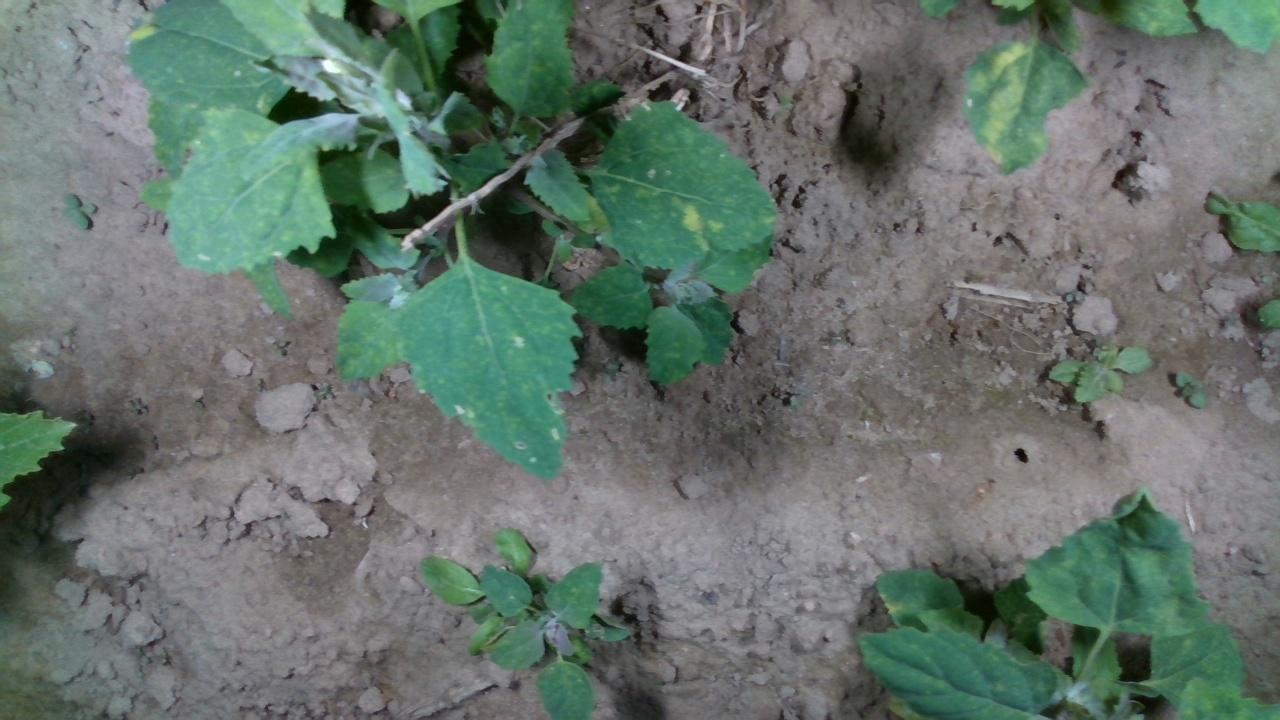weed: (1045, 338, 1157, 404), (1173, 366, 1207, 410), (59, 189, 92, 230)
